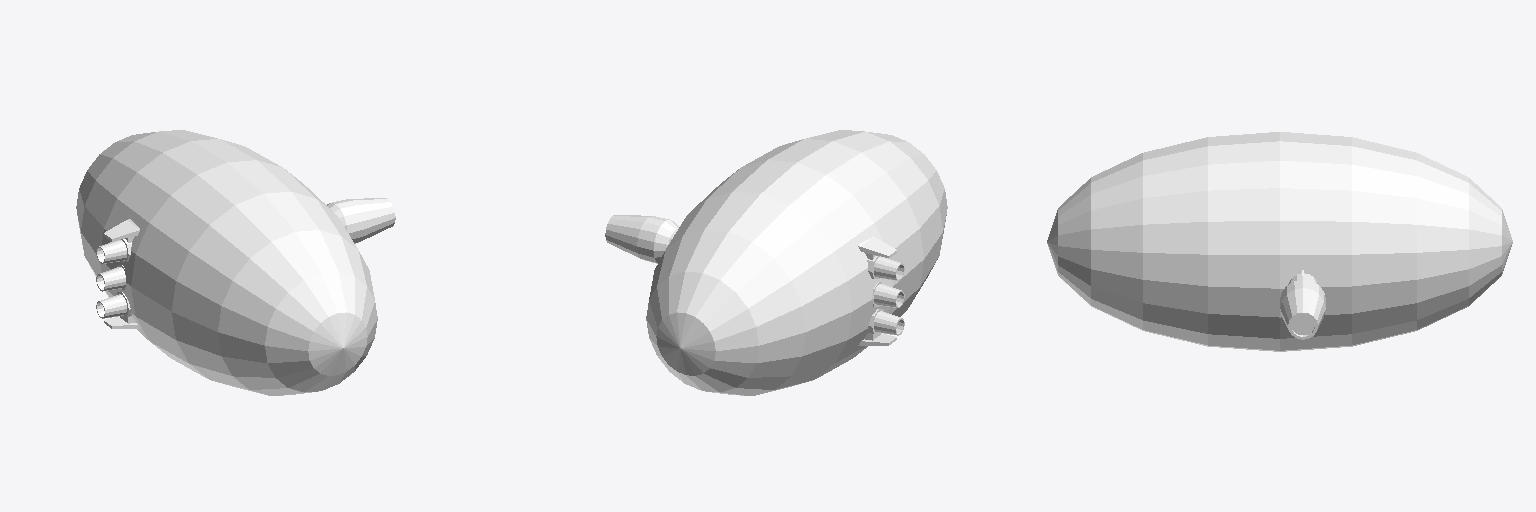
Rendered from Rebel_DP_20.obj.
3 views of the same model, side by side, from view 1: azimuth 30°, elevation 25°; view 2: azimuth 150°, elevation 25°; view 3: azimuth 270°, elevation 25° (orthographic).
Visible parts, largest first — view 1: Shield, DP20; view 2: Shield, DP20; view 3: Shield, DP20.
Boxes of the visible parts, x1,y1,x2,y2 form: Shield: [76, 130, 377, 395]; DP20: [96, 198, 395, 328]; Shield: [646, 130, 947, 395]; DP20: [605, 215, 904, 345]; Shield: [1047, 132, 1512, 351]; DP20: [1280, 270, 1325, 339].
Bounding box in the file's own units: 317 × 212 × 445.